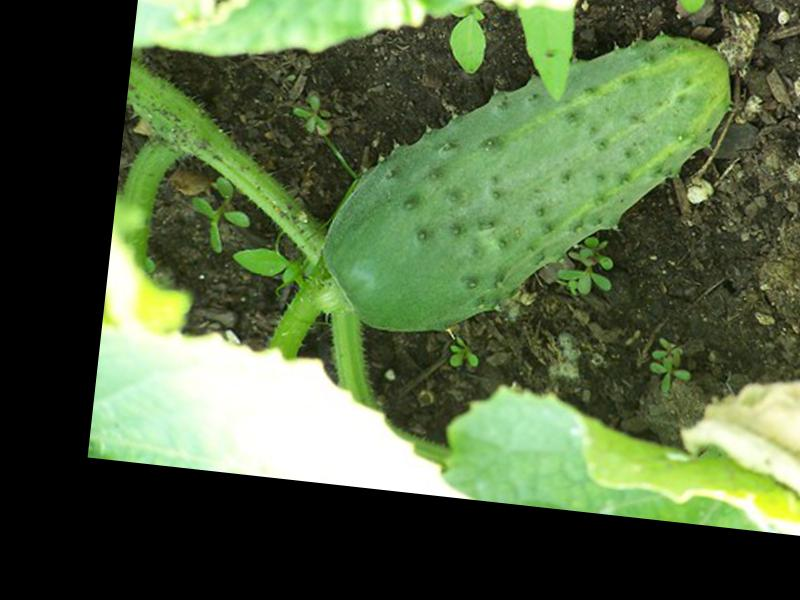Cucumber: (312, 1, 736, 366)
